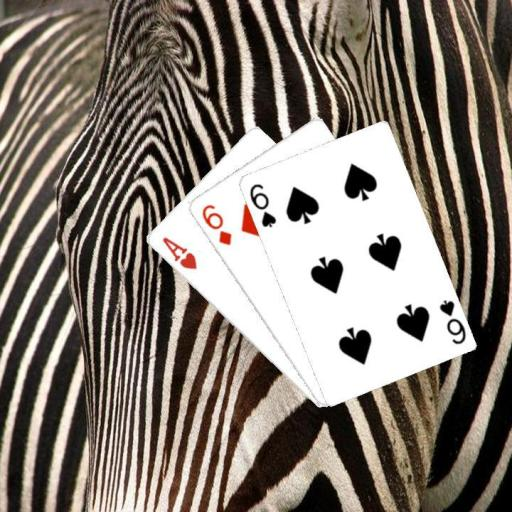6D: (198, 201, 233, 247)
6S: (435, 297, 467, 346), (246, 180, 277, 229)
AH: (159, 233, 199, 272)
